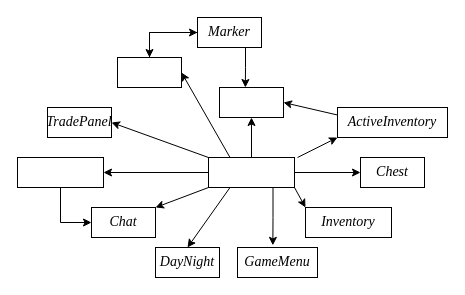
Image size: 465x295. Some labels were removed from this diagram. The shapes that lost their labels are listed below. From the top down, each one's centre as x and y in pixels, then its label:
pixel 149 72: Player
pixel 251 102: Terrain
pixel 60 172: NPC
pixel 251 172: Installer
